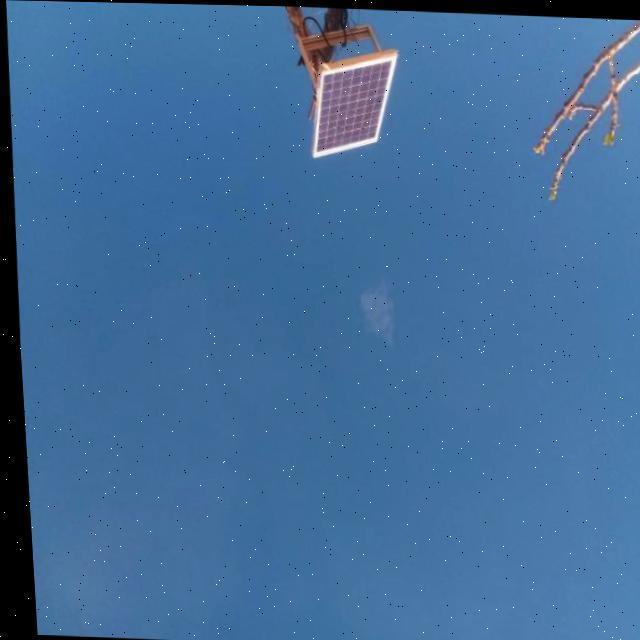Normal Solar Panel: (306, 49, 401, 160)
